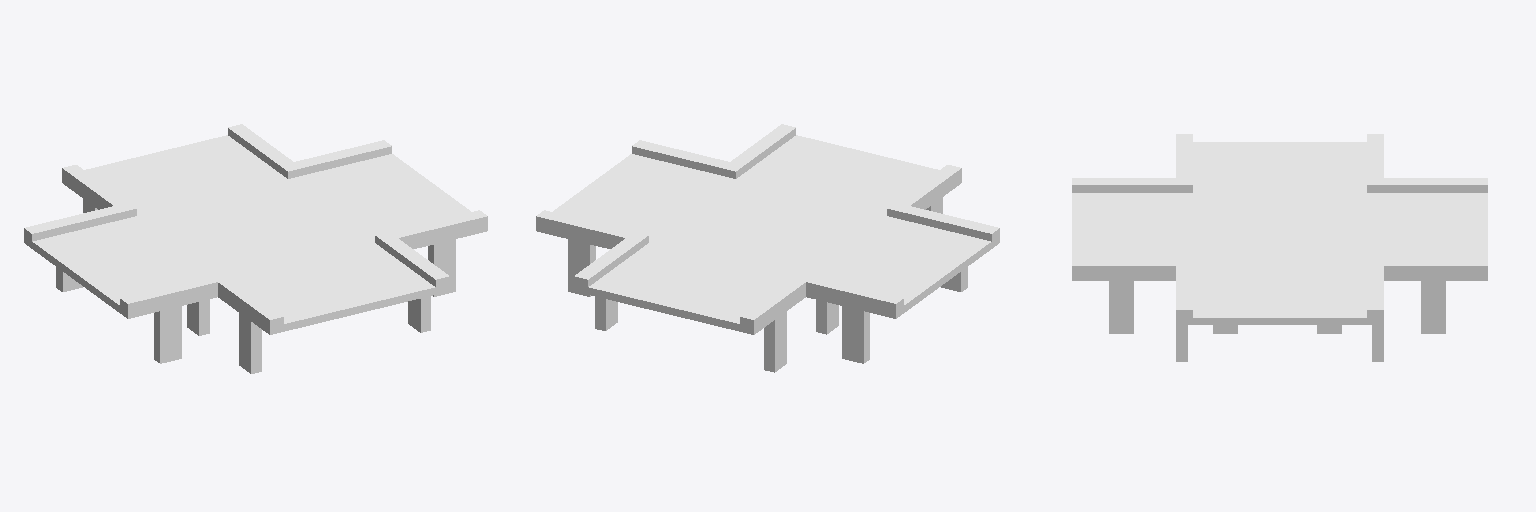
File: X_road.obj
The picture shows the model from 3 angles: view 1: azimuth 30°, elevation 25°; view 2: azimuth 150°, elevation 25°; view 3: azimuth 270°, elevation 25°; orthographic projection.
Visible parts, largest first — view 1: X_road; view 2: X_road; view 3: X_road.
Part boxes in pixels (left/top/right/bottom): X_road: left=24, top=124, right=487, bottom=373; X_road: left=536, top=124, right=999, bottom=372; X_road: left=1072, top=134, right=1487, bottom=361.
Bounding box in the file's own units: 100 × 18 × 100.